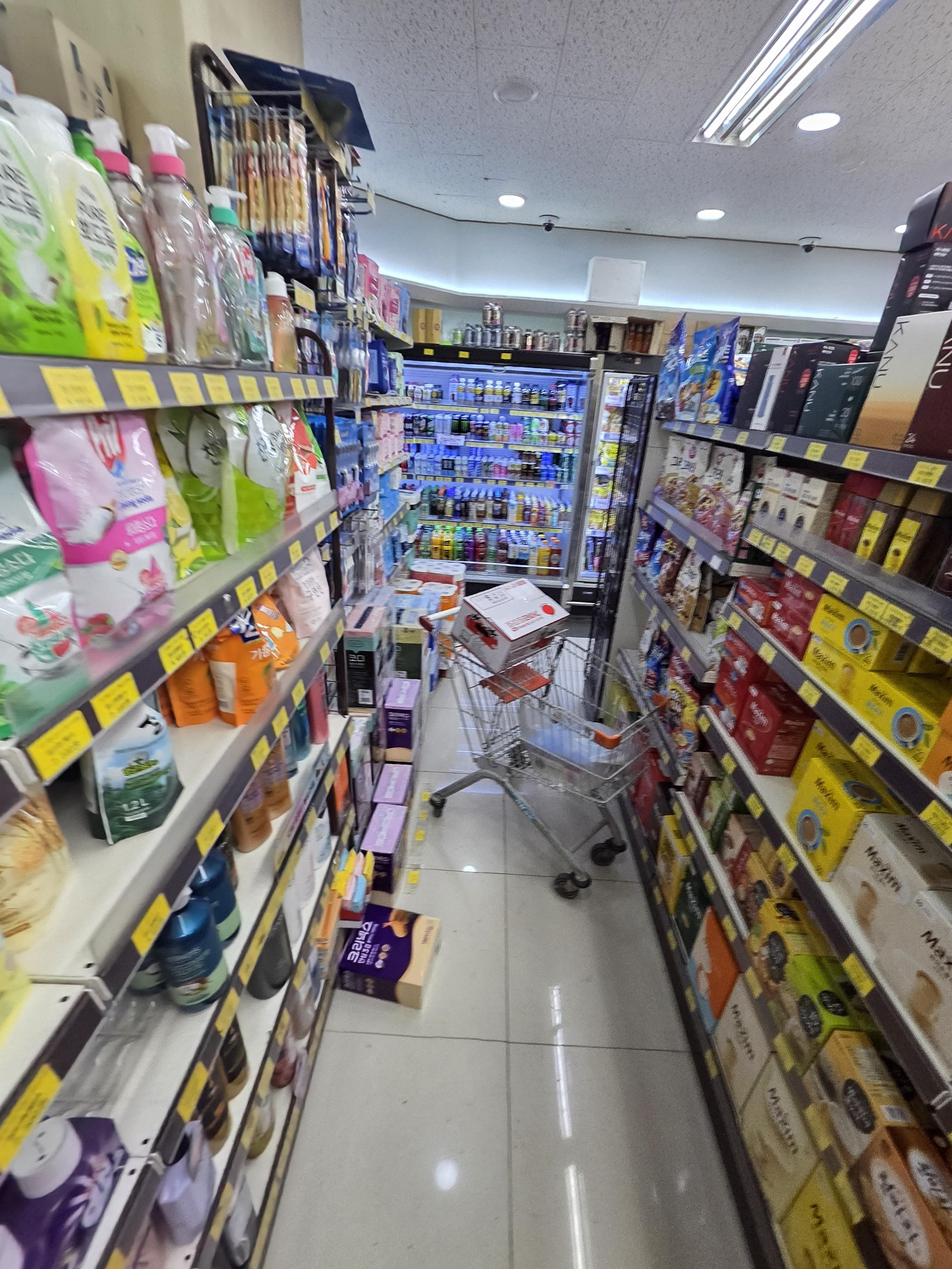fully_cart: (390, 571, 654, 901)
